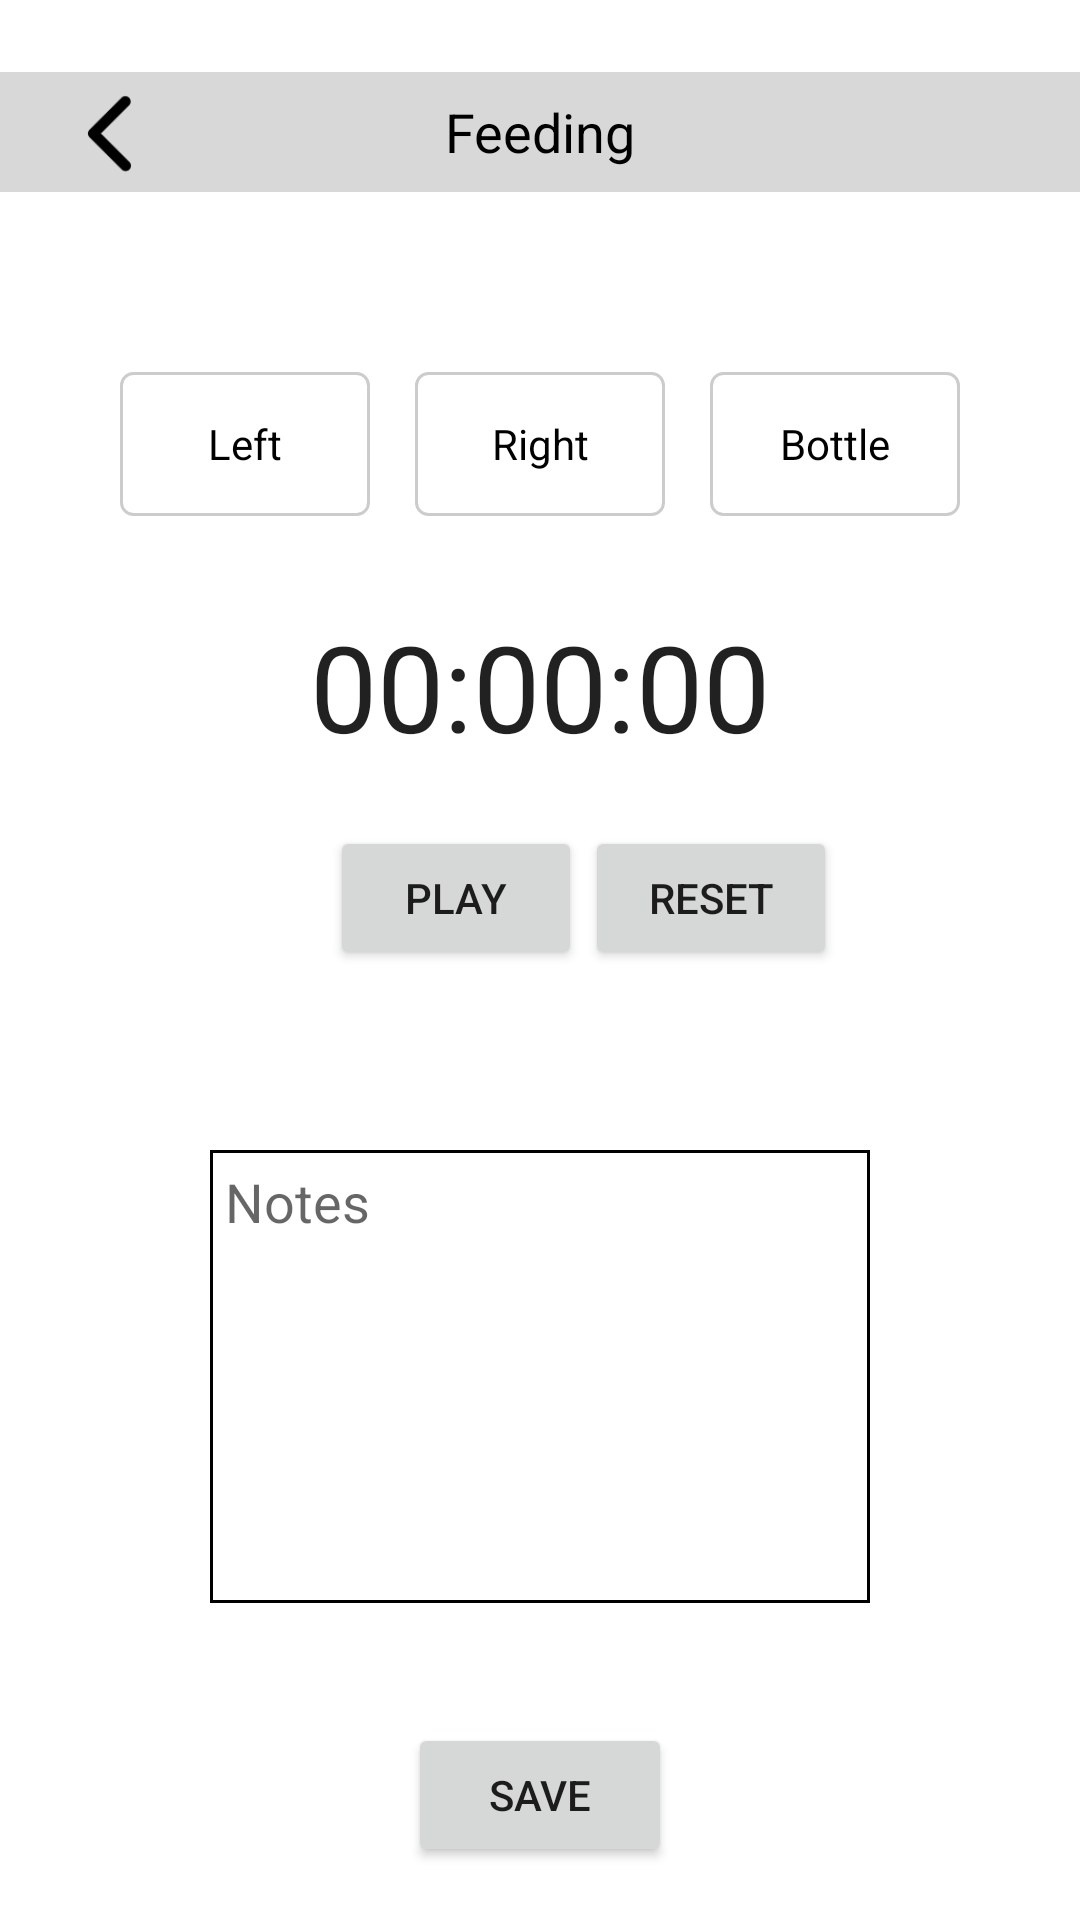

Icon click points for this 1080px x 1920px phone screenshot, format point (x, y):
left: point (109, 132)
